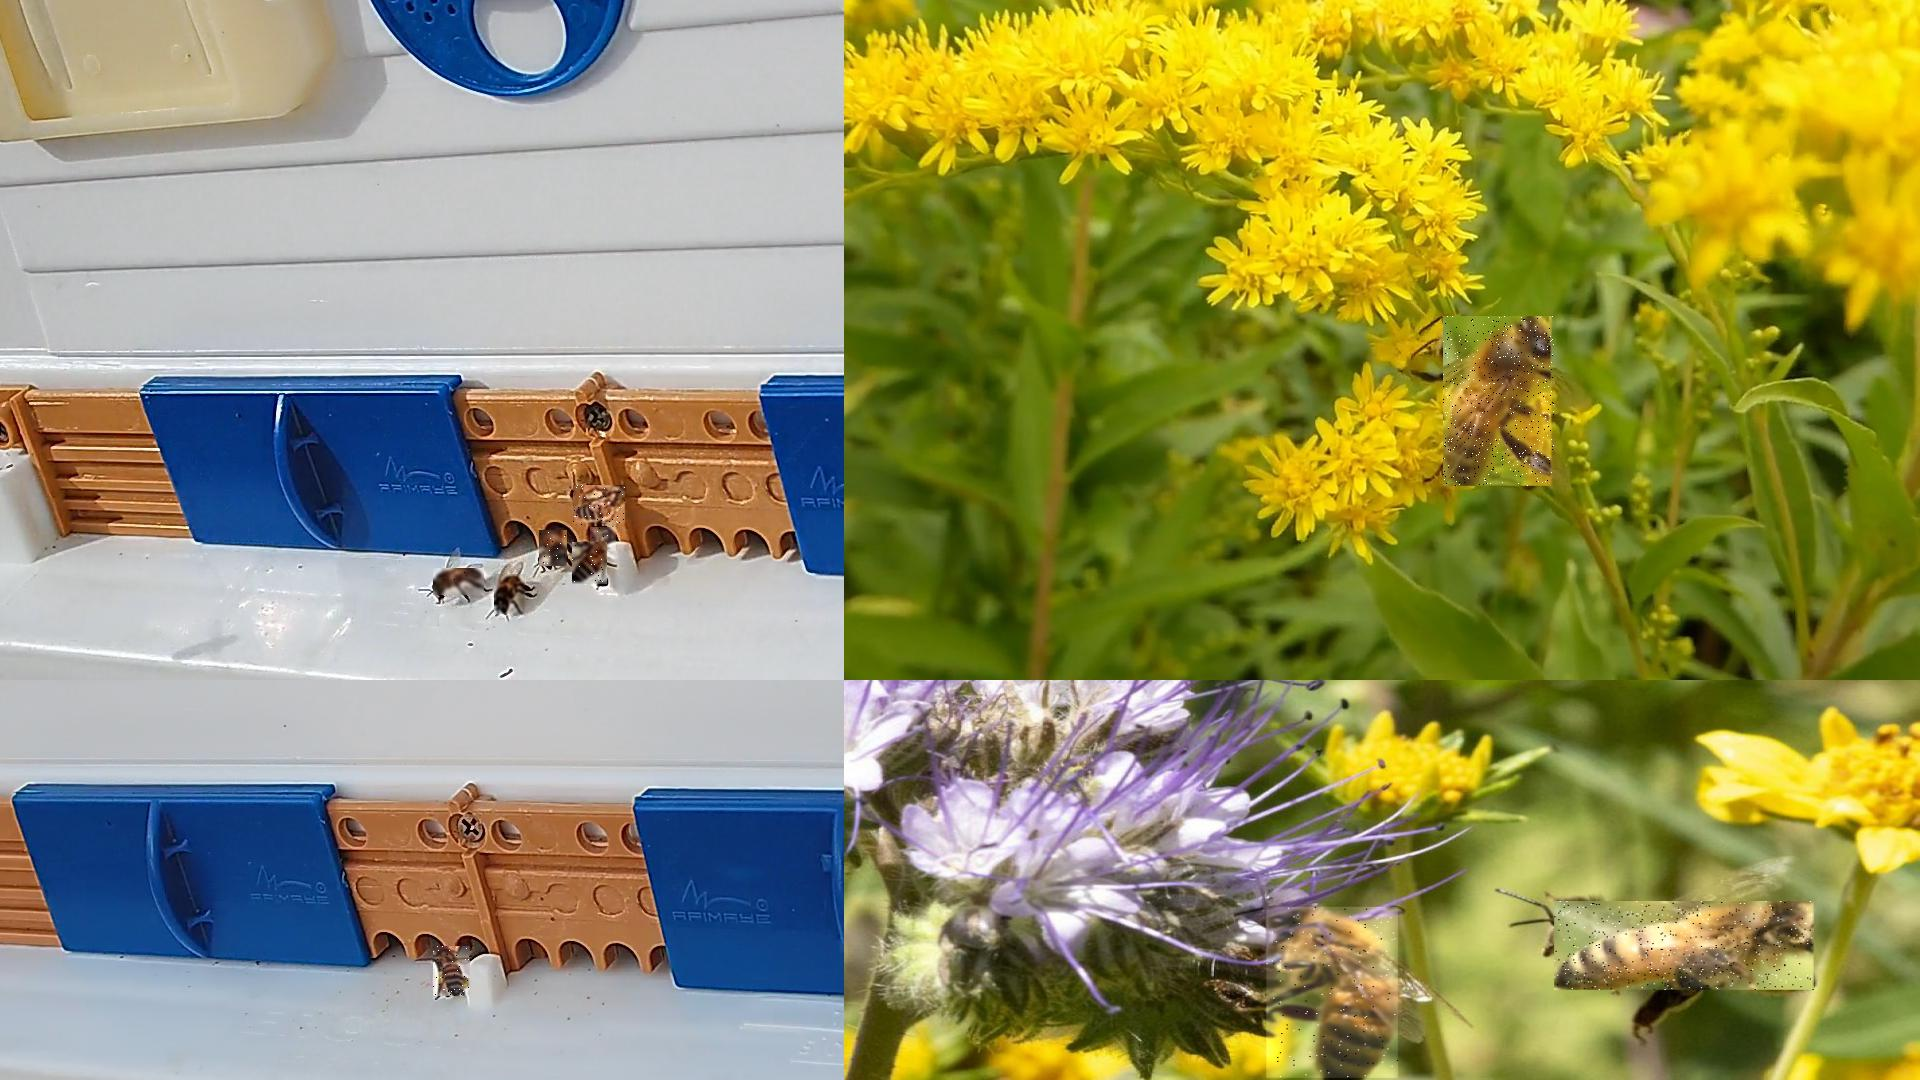bee: (1555, 901, 1816, 992), (1266, 907, 1399, 1079), (1444, 316, 1556, 488), (574, 485, 626, 526), (572, 543, 608, 587), (434, 568, 487, 597), (495, 574, 526, 615), (539, 530, 568, 567), (591, 527, 617, 553)
pollenbee: (433, 945, 471, 997)
